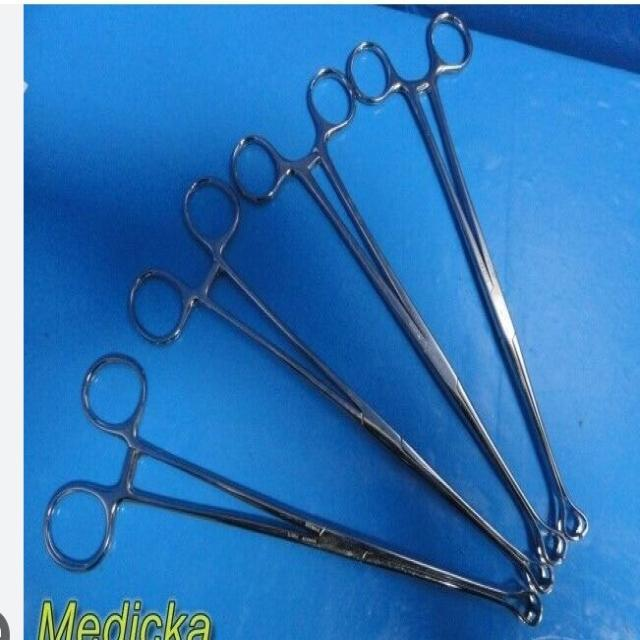Babcock Forceps: (124, 170, 556, 598), (232, 66, 570, 563), (40, 350, 545, 630), (346, 10, 592, 544)
